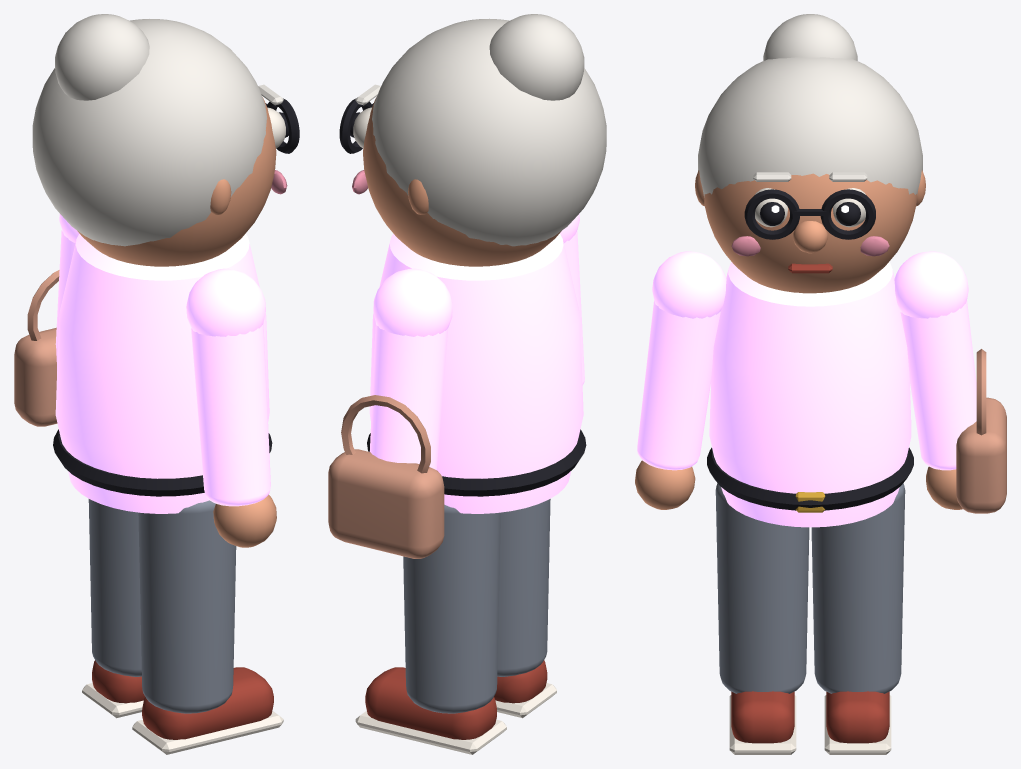
Rendered from ped_granny.glb.
3 renders of one model, left to right at view 1: azimuth 30°, elevation 25°; view 2: azimuth 150°, elevation 25°; view 3: azimuth 270°, elevation 25°, orthographic. The views are drawn at different scales.
Parts seen in each view (by area): view 1: ped_granny; view 2: ped_granny; view 3: ped_granny.
Boxes of the visible parts, box(x1,y1,x2,y2) form: ped_granny: box(14, 14, 299, 754); ped_granny: box(328, 14, 606, 754); ped_granny: box(635, 14, 1006, 754).
Bounding box in the file's own units: 0.4749 × 1.43 × 0.7159.
1 material, 1 textured.
